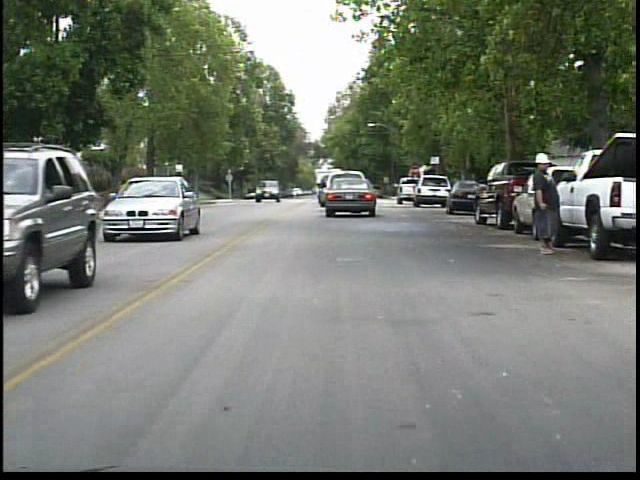person: (524, 145, 564, 258)
